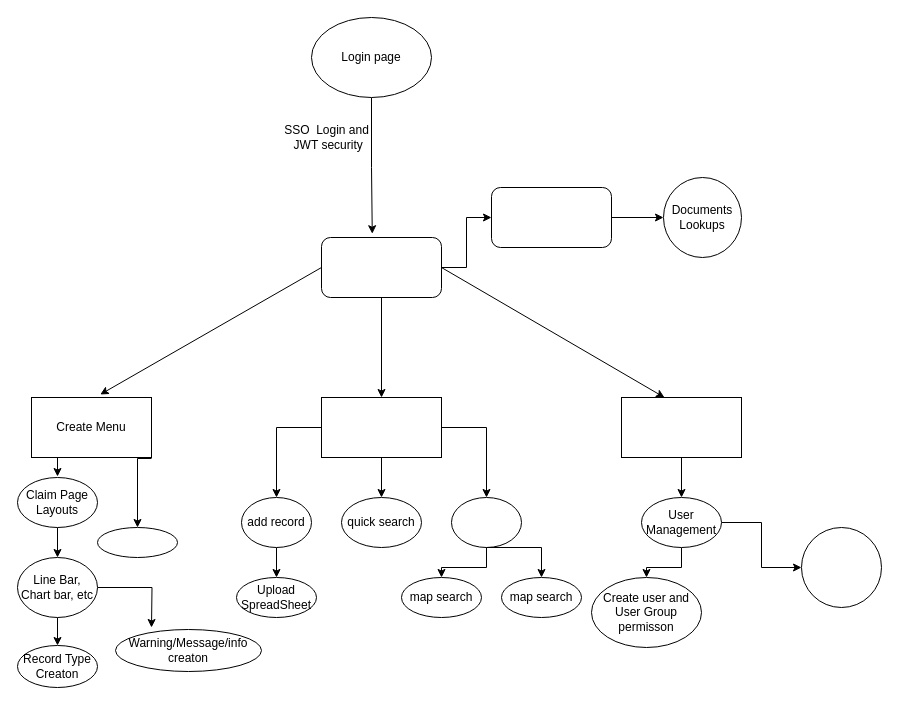
Image size: 899x705. Some labels were removed from this diagram. Each missing label, with the centre of its shape:
Application Dashboard: the point at 381,267
Business Intelligent: the point at 551,217
Grant and revoke access for features: the point at 841,567
Record Menu: the point at 381,427
Saved Search: the point at 137,542
User Menu: the point at 681,427
veiw record: the point at 486,522
